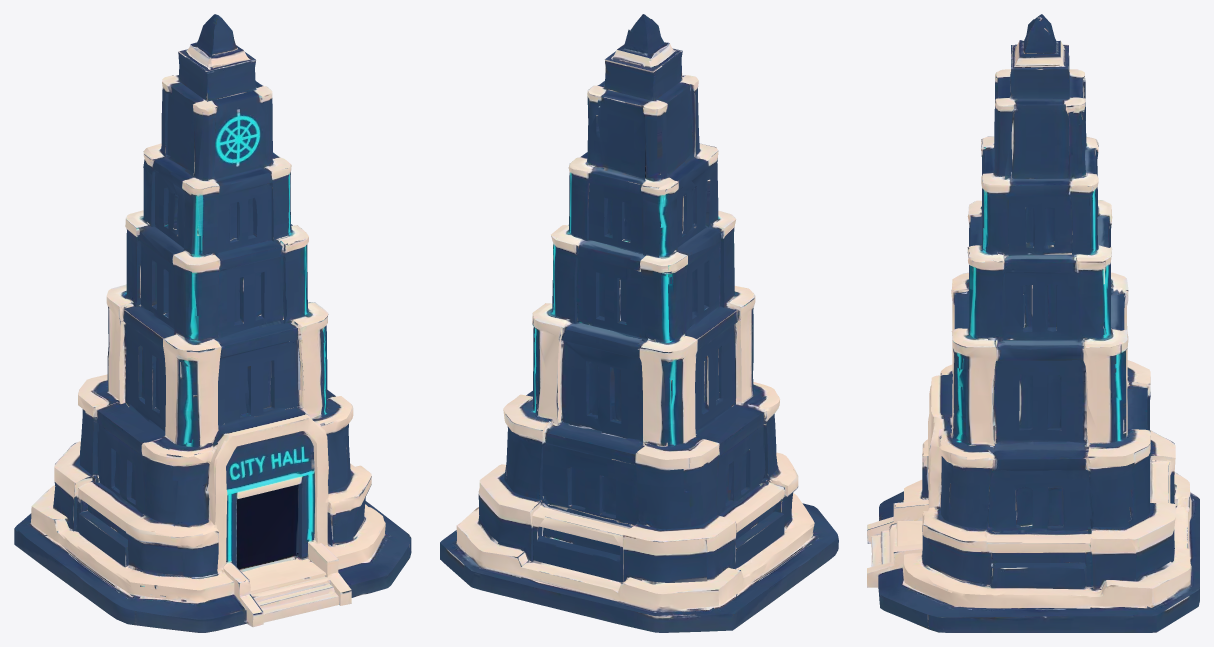
File: city_hall.glb
3 renders of one model, left to right at view 1: azimuth 30°, elevation 25°; view 2: azimuth 150°, elevation 25°; view 3: azimuth 270°, elevation 25°, orthographic.
Visible parts, largest first — view 1: CityHall; view 2: CityHall; view 3: CityHall.
Boxes of the visible parts, left/top/right/bottom form: CityHall: left=14, top=14, right=411, bottom=632; CityHall: left=440, top=14, right=838, bottom=632; CityHall: left=867, top=14, right=1199, bottom=632.
Size of the model in its own units: 636 by 1120 by 616.
1 material, 1 textured.
